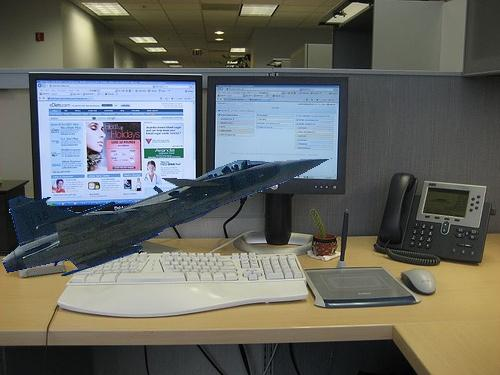tampered: (2, 158, 333, 276)
